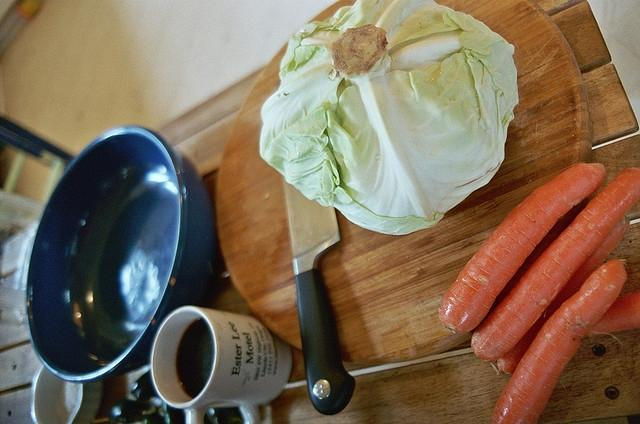carrot: (470, 166, 640, 358), (437, 161, 607, 334), (492, 260, 628, 424), (496, 215, 630, 375), (584, 292, 640, 338)
lettuce: (260, 0, 520, 235)
